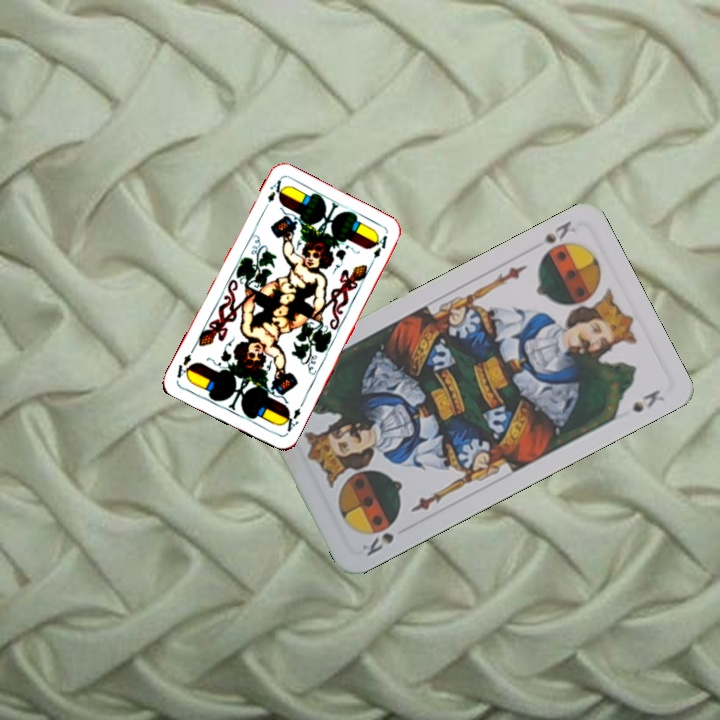EA: (260, 175, 287, 214), (278, 404, 303, 437)
SK: (536, 216, 578, 261), (357, 528, 397, 559)
